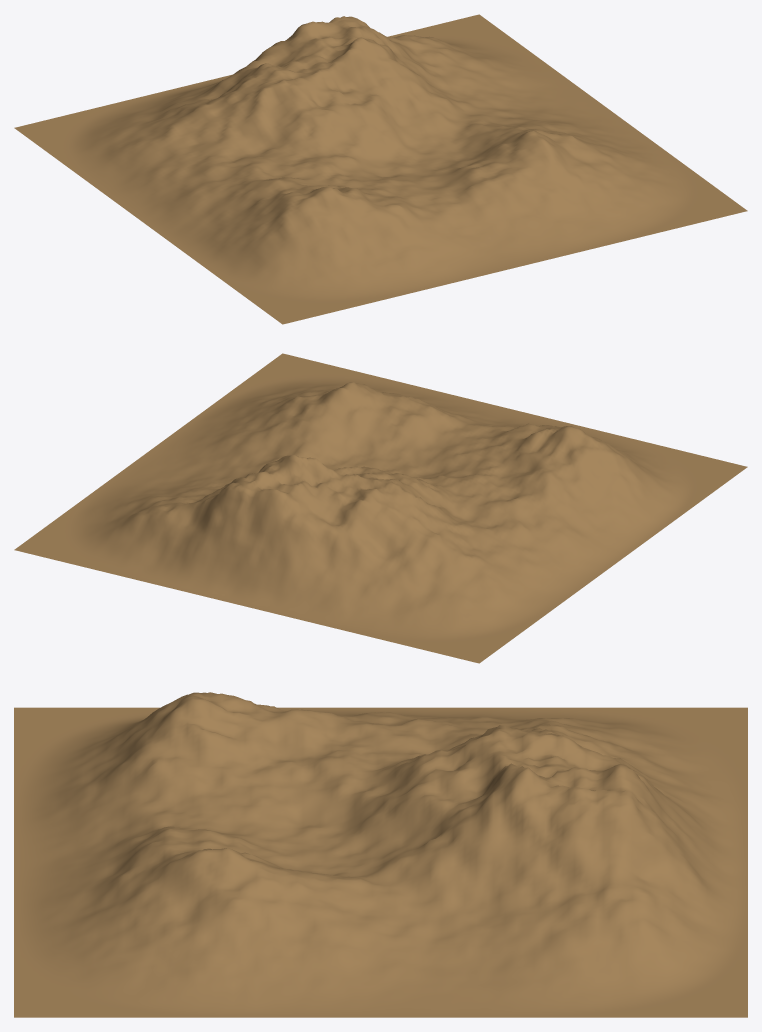
The model's file is ground.glb.
The picture shows the model from 3 angles, top to bottom: view 1: azimuth 30°, elevation 25°; view 2: azimuth 150°, elevation 25°; view 3: azimuth 270°, elevation 25°; orthographic projection. The views are drawn at different scales.
Visible parts, largest first — view 1: Landscape; view 2: Landscape; view 3: Landscape.
Part boxes in pixels (<box>): Landscape: <box>14,14,747,324</box>; Landscape: <box>14,353,747,663</box>; Landscape: <box>14,692,747,1017</box>.
Size of the model in its own units: 4.41 by 0.7643 by 4.41.
